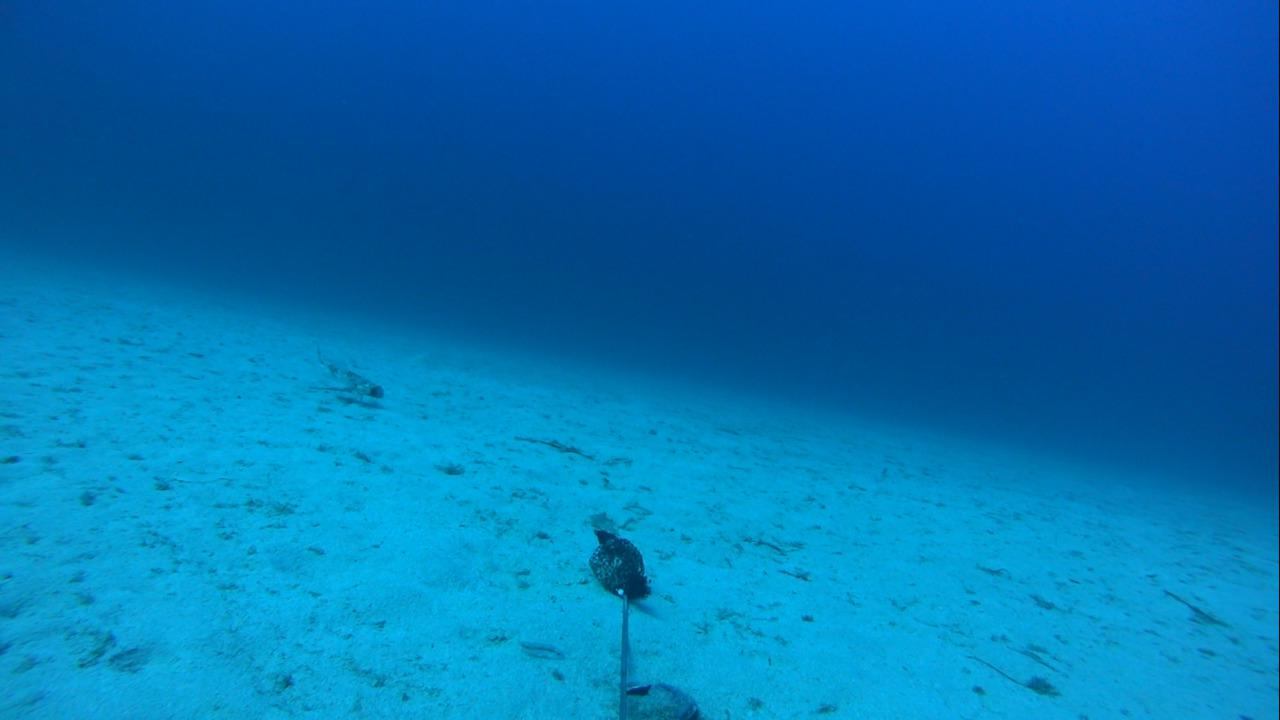dactylopterus: (299, 348, 386, 409)
